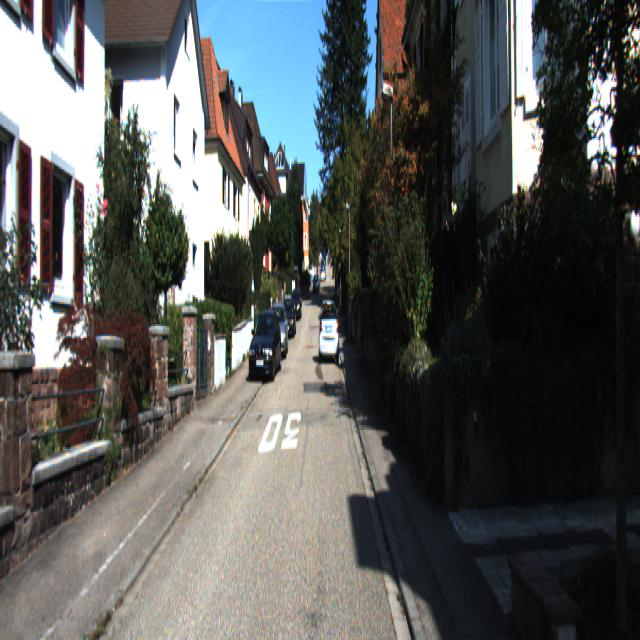Car: (247, 307, 284, 381), (319, 296, 339, 364), (268, 302, 290, 360), (280, 298, 297, 337)
